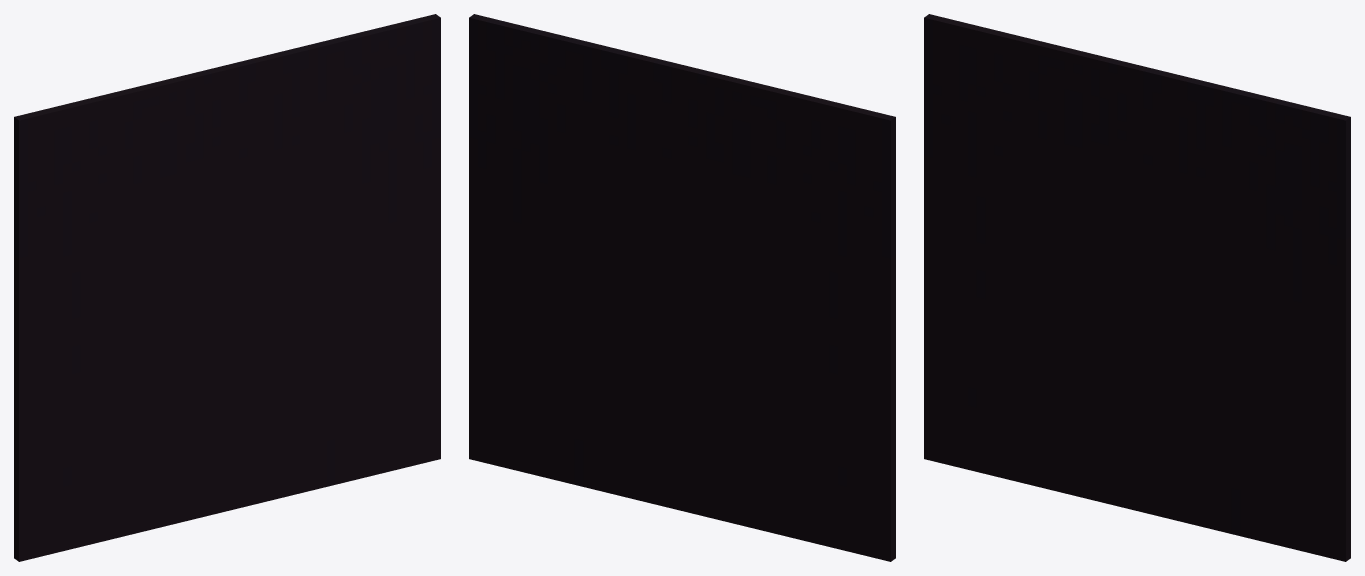
The model's file is Wall.obj.
The picture shows the model from 3 angles, left to right: view 1: azimuth 30°, elevation 25°; view 2: azimuth 150°, elevation 25°; view 3: azimuth 330°, elevation 25°; orthographic projection.
Bounding box in the file's own units: 4.8 × 4.8 × 0.1.
Materials: 1 (1 with a texture image).
